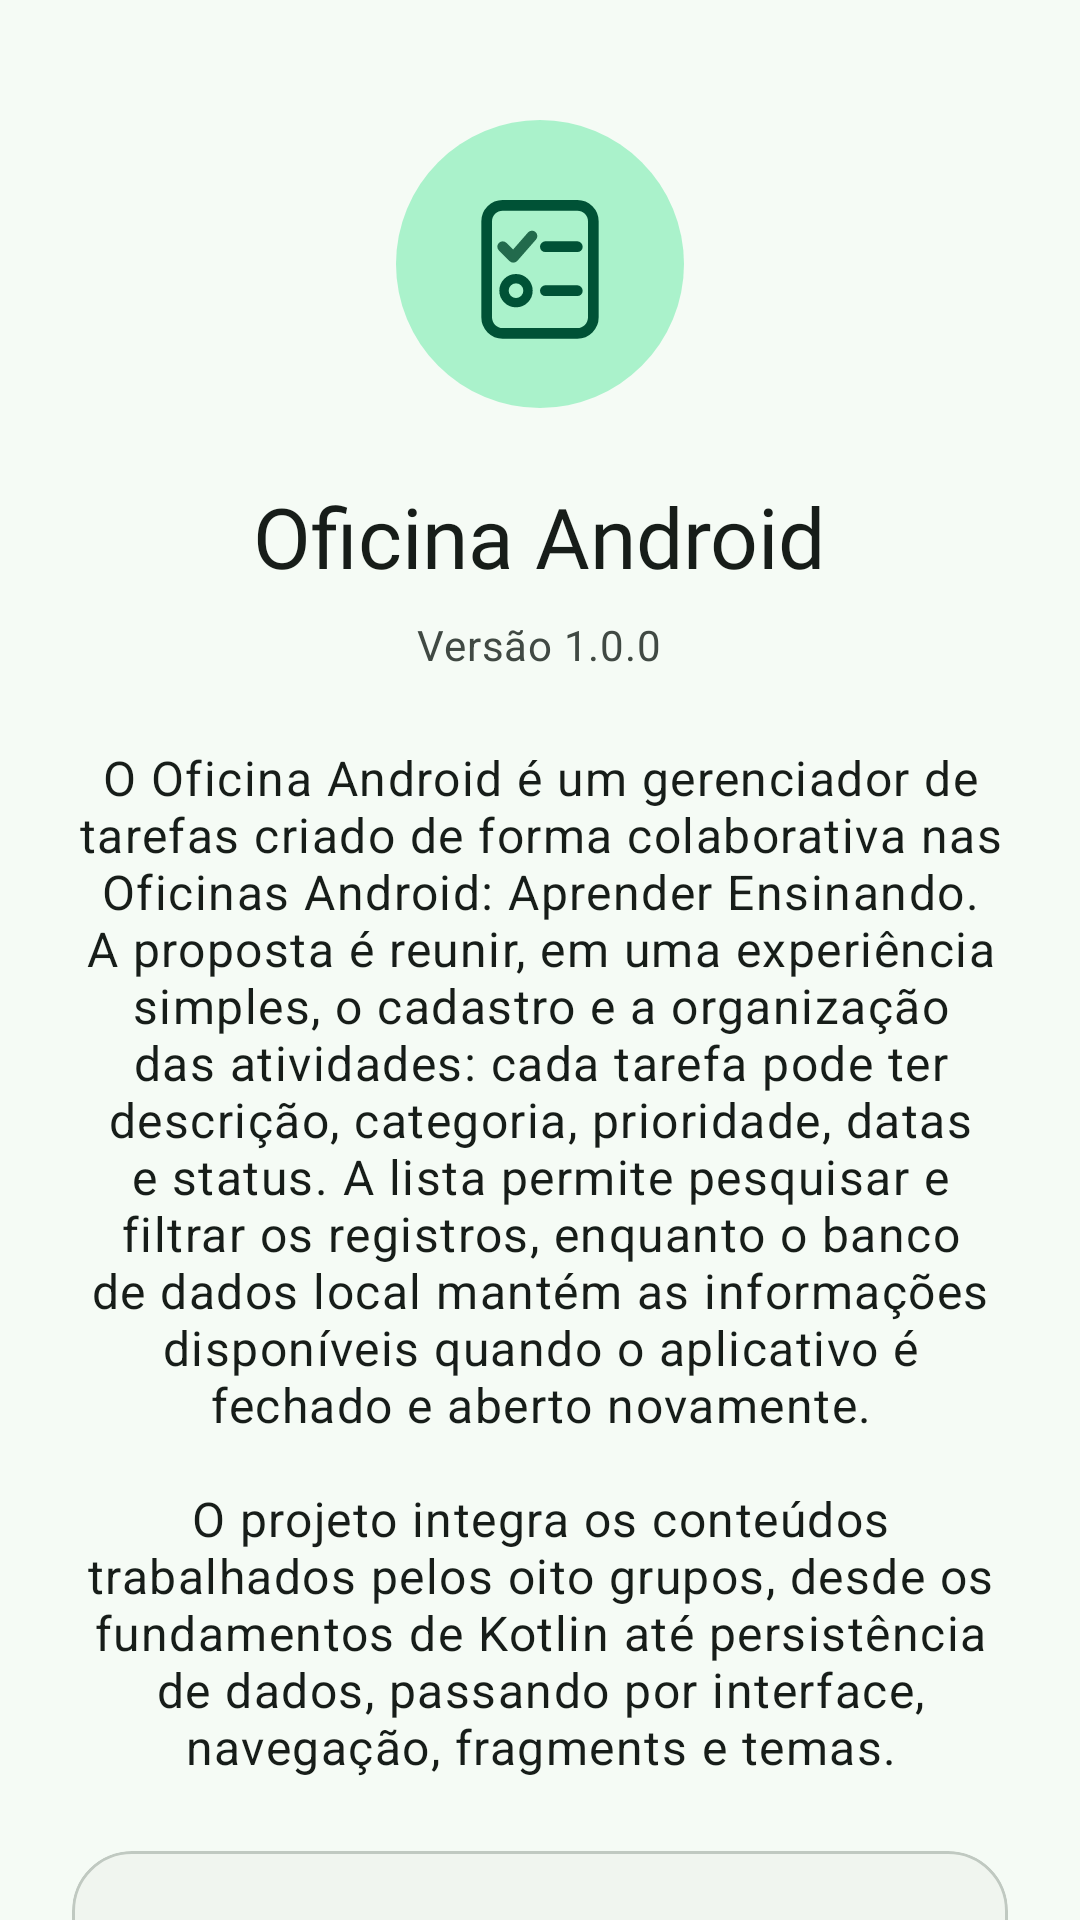

Icon bounding boxes for this 1080px x 1920px phone screenshot, format (x1, y1, x2, y2):
ilustracao boas vindas: (396, 120, 684, 408)
